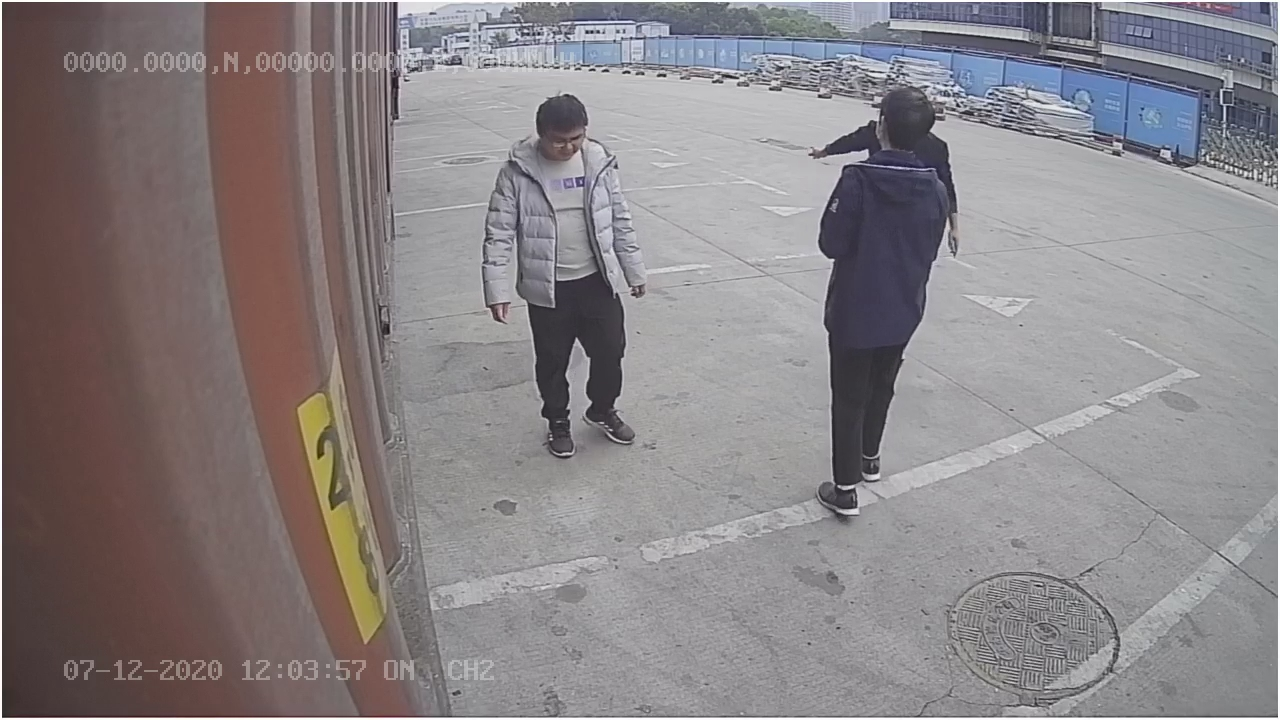person: (477, 84, 650, 462)
